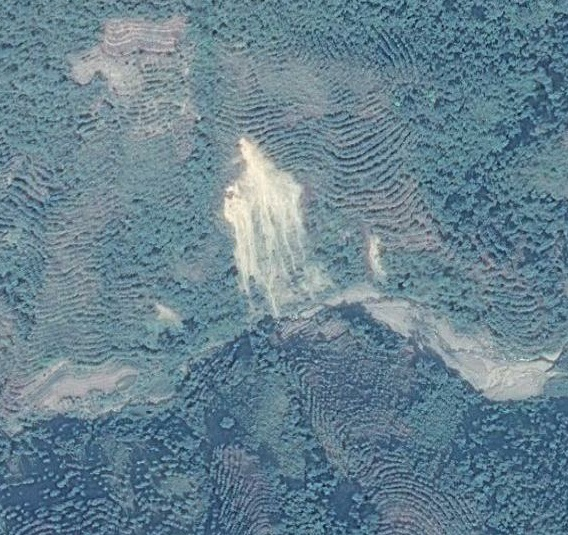slope: (221, 133, 333, 320), (364, 297, 559, 400), (362, 224, 388, 286)
